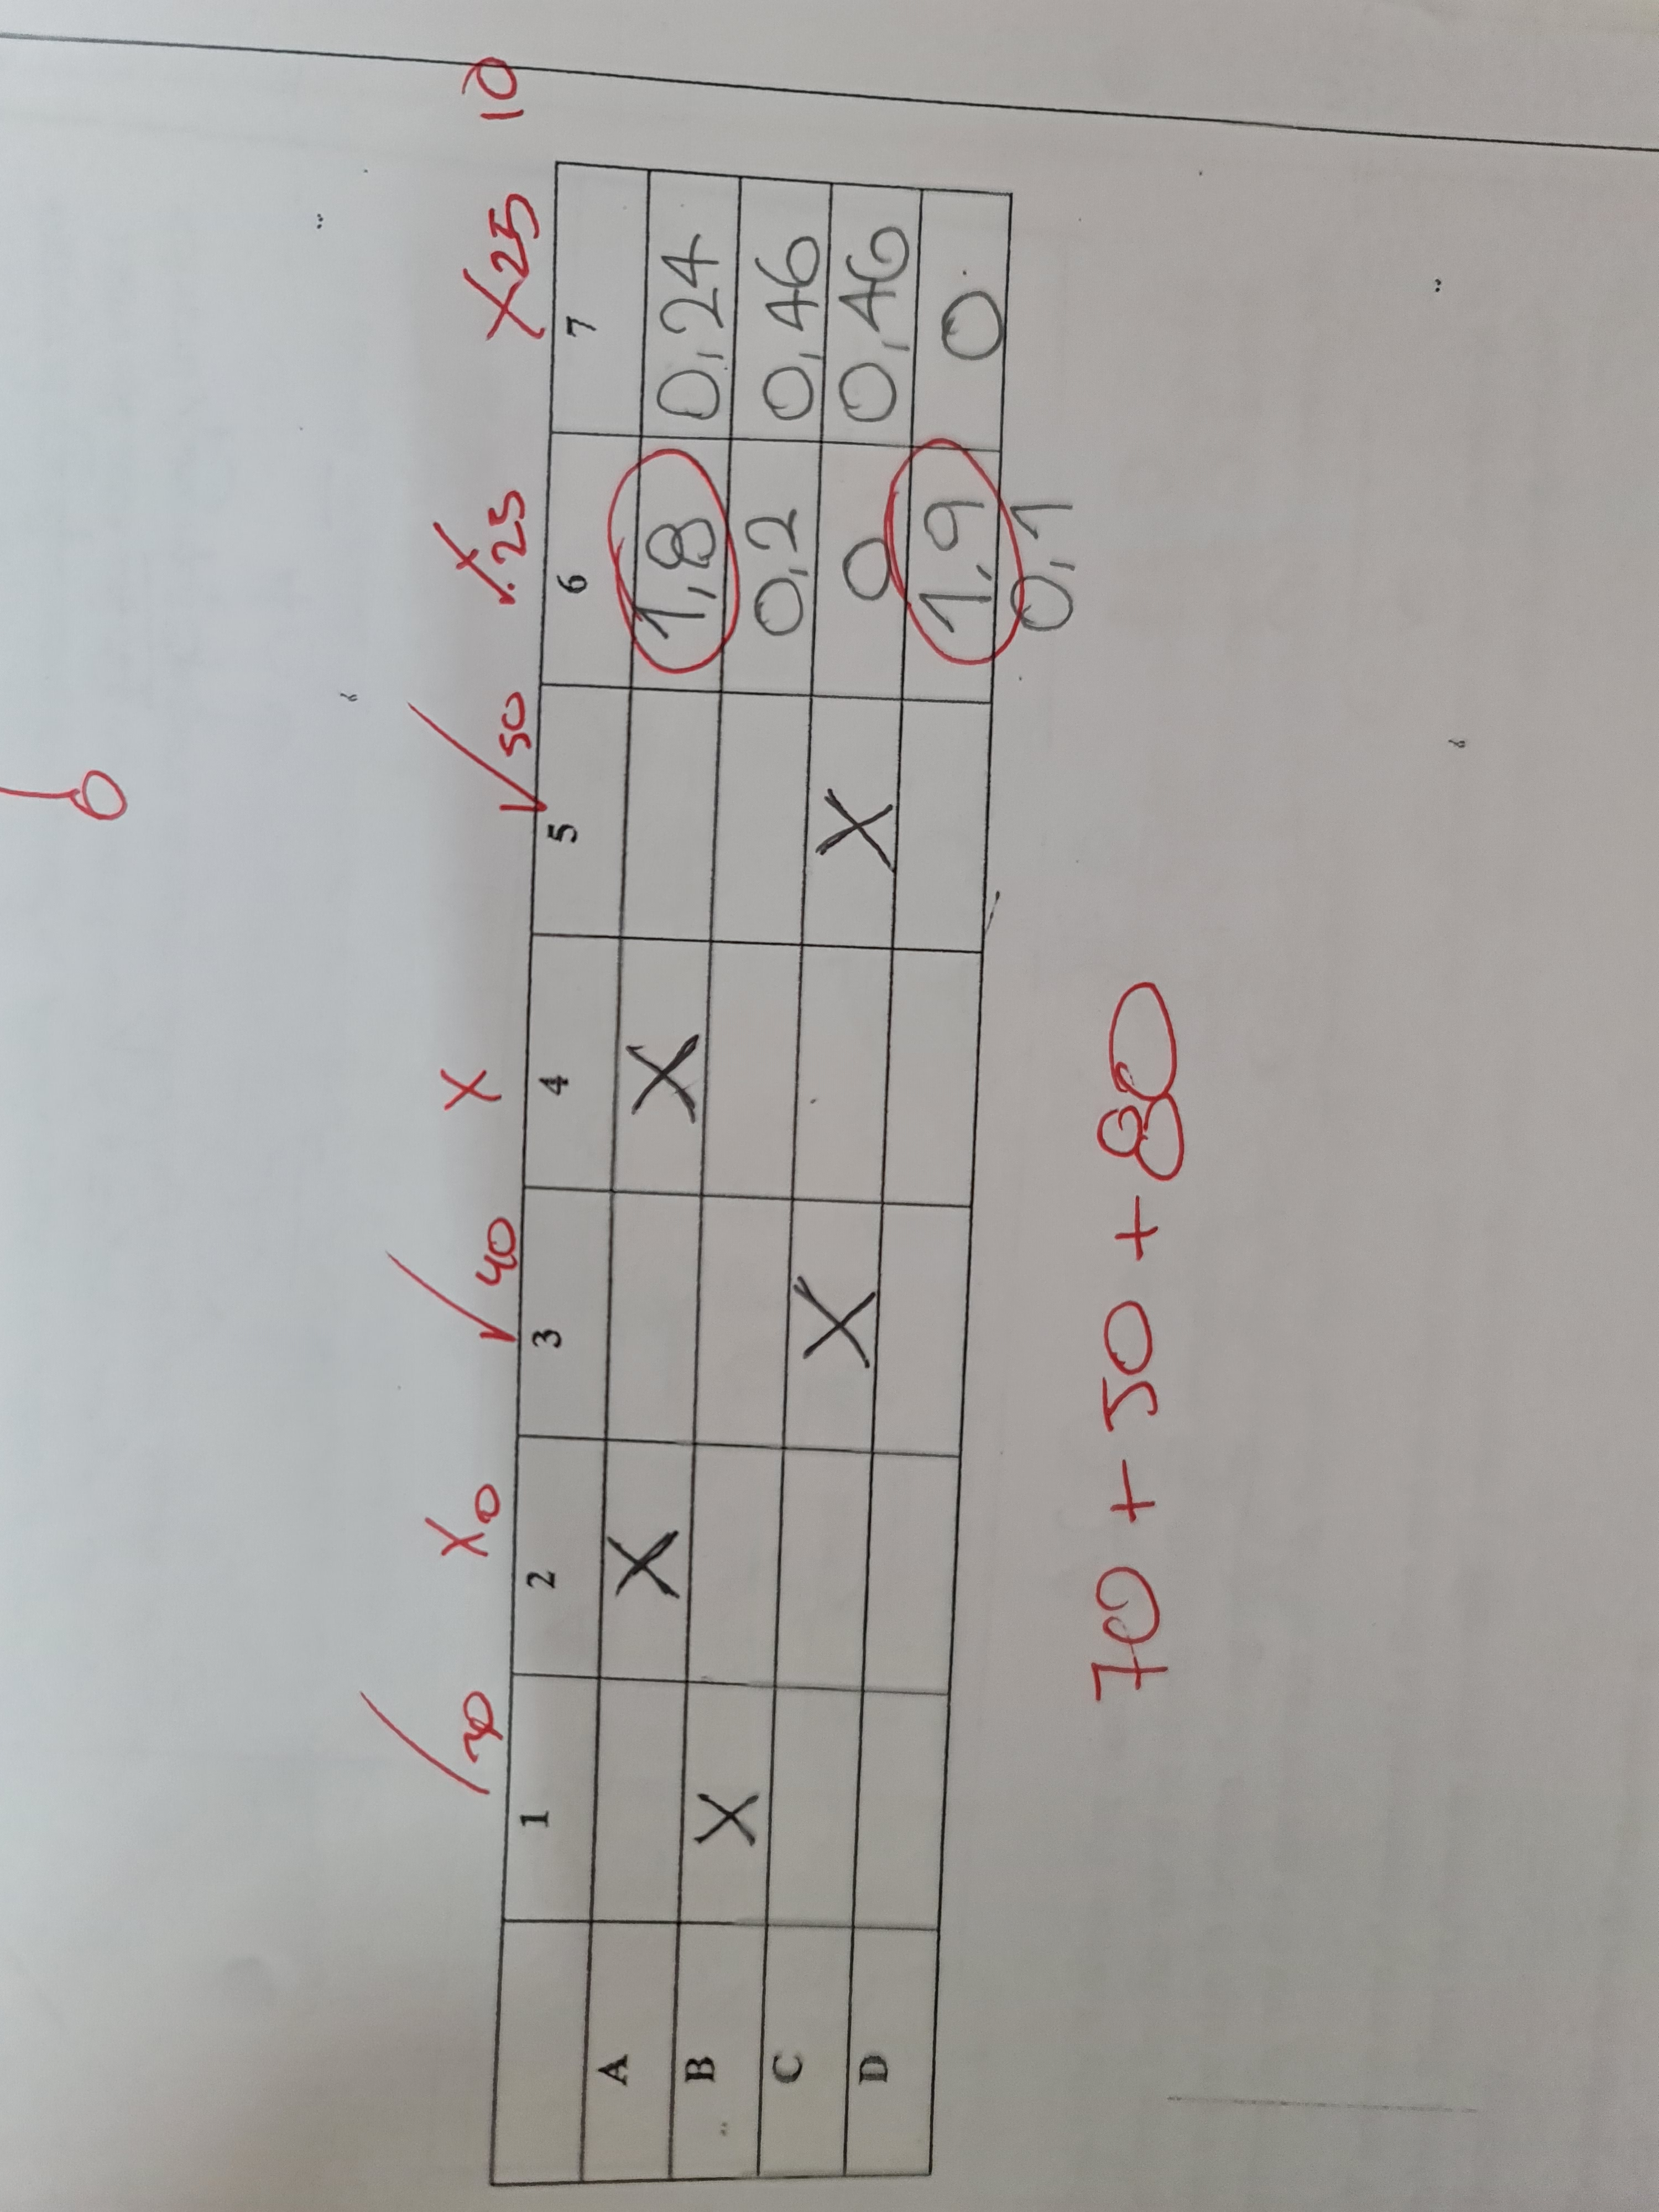column: (518, 674, 1032, 965), (495, 1653, 990, 1947), (512, 932, 1019, 1209), (505, 1167, 993, 1454), (481, 1905, 948, 2202), (490, 1435, 976, 1695)
